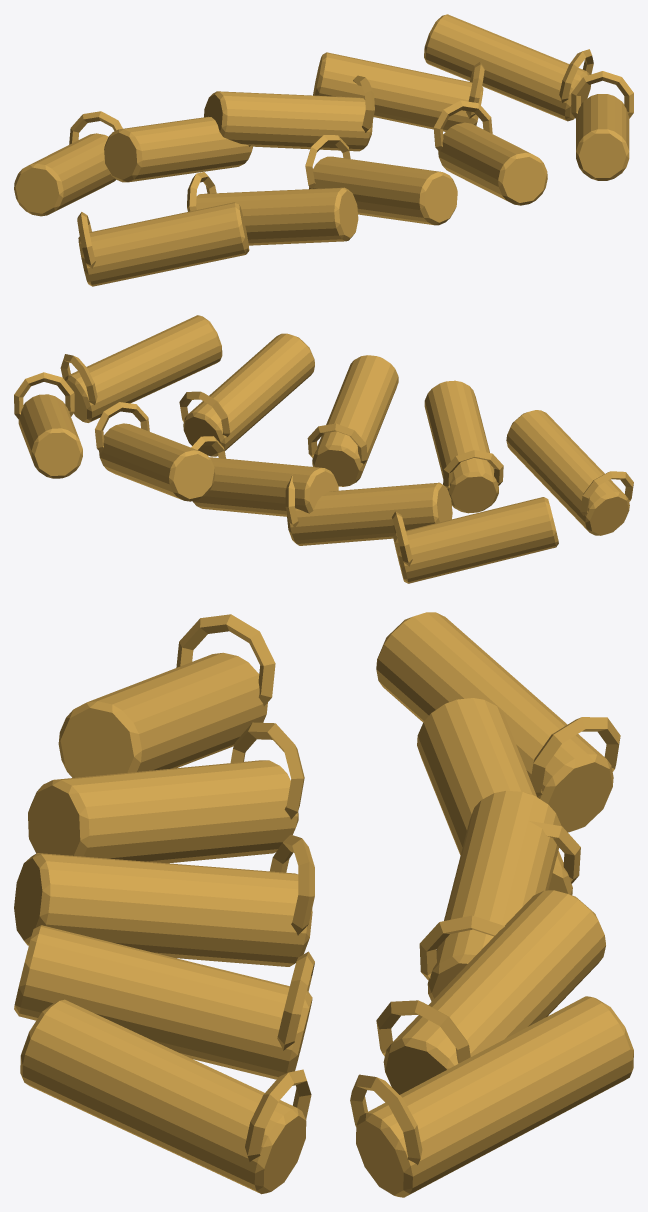
Rendered from item_ammo_casing.glb.
3 renders of one model, top to bottom at view 1: azimuth 30°, elevation 25°; view 2: azimuth 150°, elevation 25°; view 3: azimuth 270°, elevation 25°, orthographic. The views are drawn at different scales.
Visible parts, largest first — view 1: item_ammo_casing; view 2: item_ammo_casing; view 3: item_ammo_casing.
Part boxes in pixels (left/top/right/bottom): item_ammo_casing: left=14, top=14, right=633, bottom=286; item_ammo_casing: left=14, top=315, right=633, bottom=583; item_ammo_casing: left=14, top=612, right=633, bottom=1197.
Size of the model in its own units: 0.2616 by 0.0334 by 0.1402.
